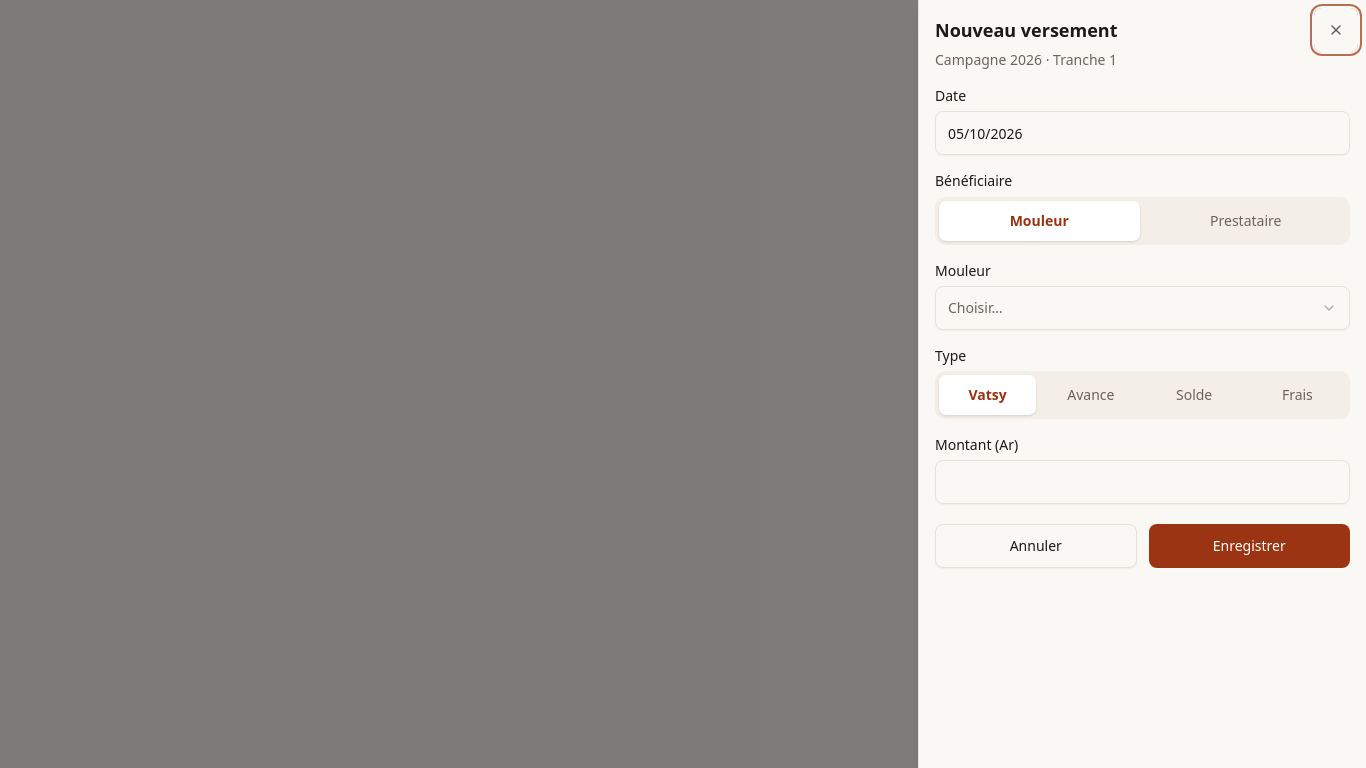
Test: NewPaymentPage › requires the beneficiary the kind names, and a whole positive amount
Type "0" into the field labelled "Montant (Ar)" at [1142, 482], box [935,460,1350,504]
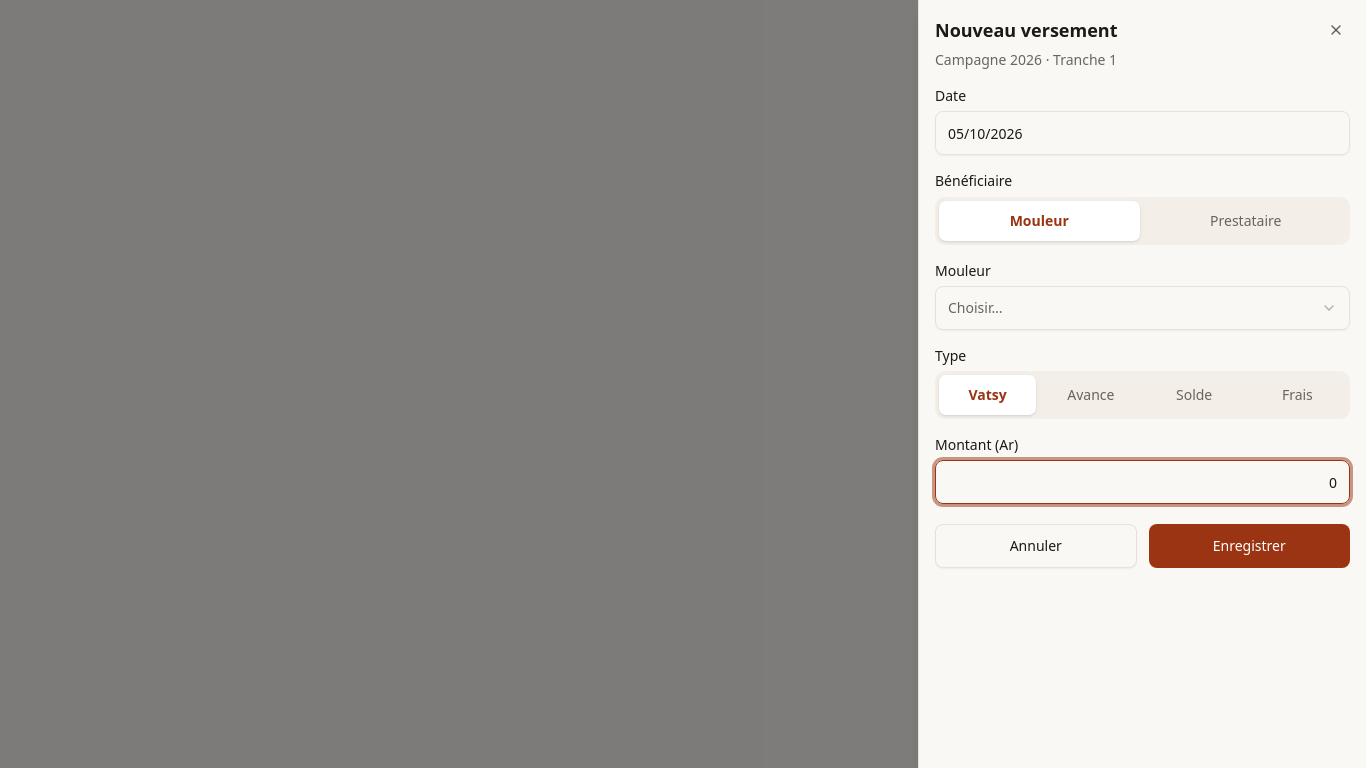
Click the button "Enregistrer" at [1249, 546], box [1148,524,1350,568]
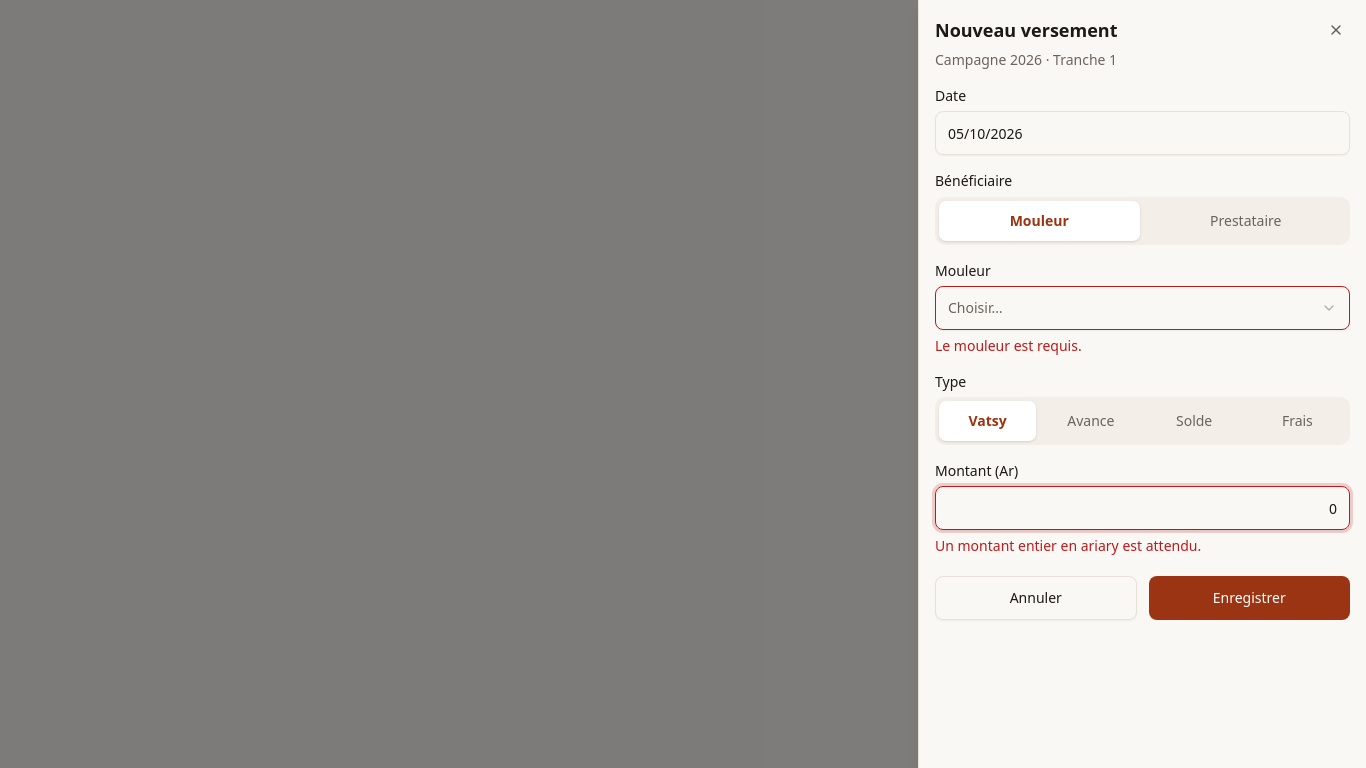
Now the messages read "Le mouleur est requis.", "Un montant entier en ariary est attendu.", in this order, box [935,336,1082,355]; [935,536,1201,555]
Click the radio button labelled "Prestataire" at [1246, 220], box [1146,200,1346,240]
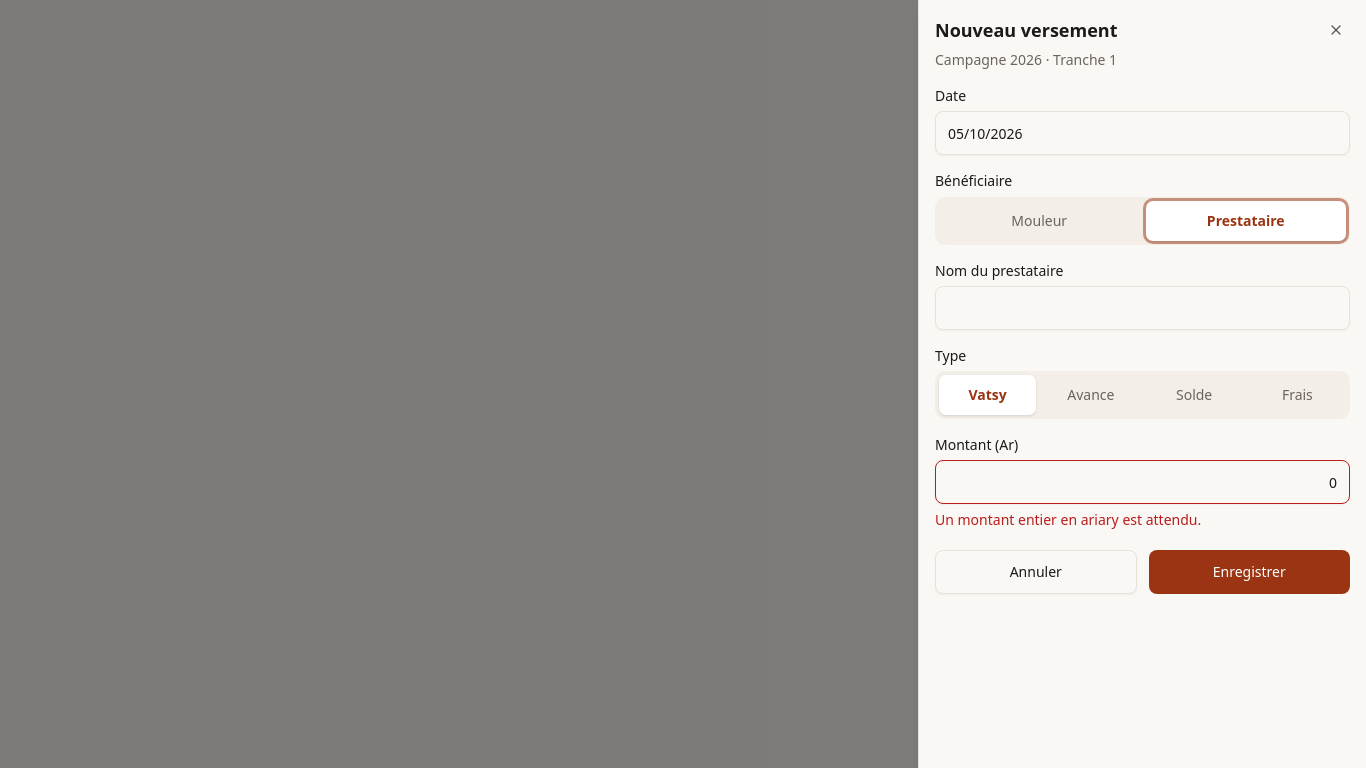
Click the button "Enregistrer" at [1249, 572], box [1148,550,1350,594]
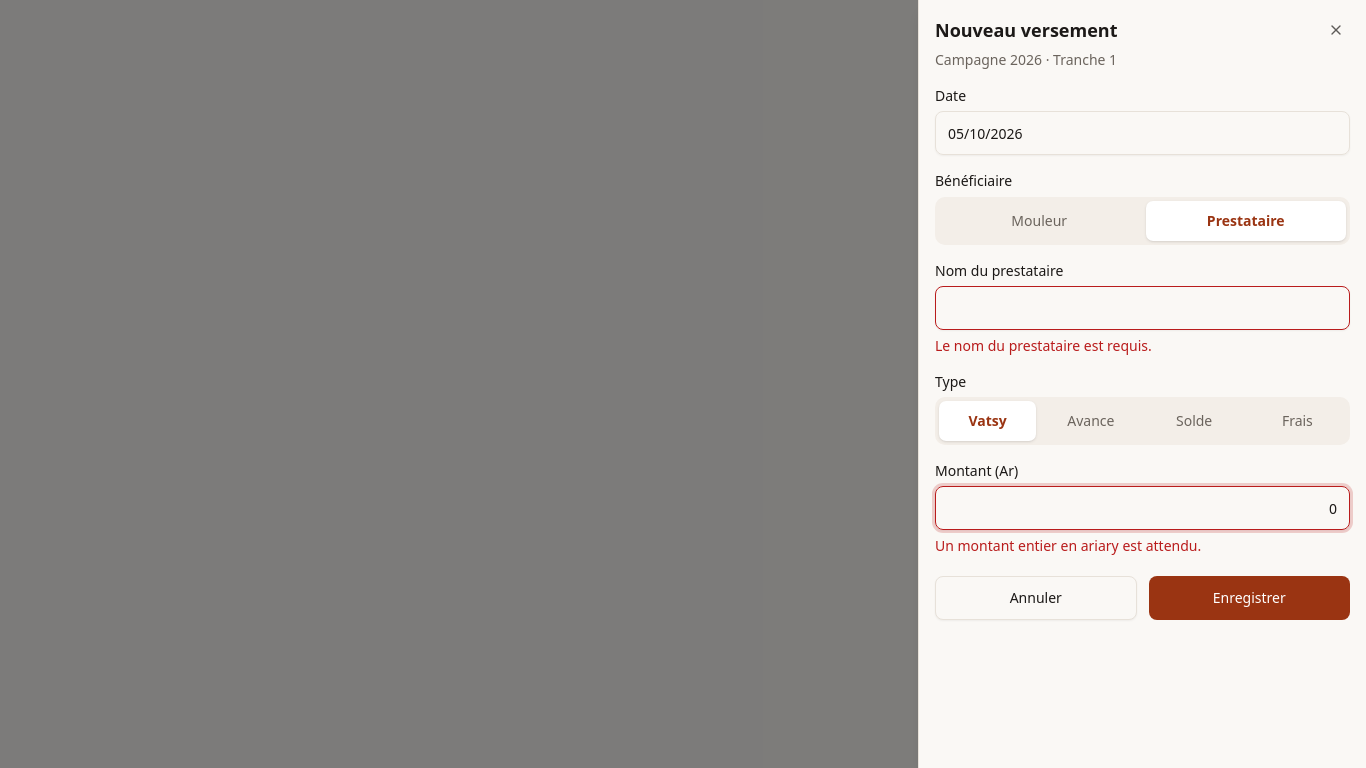
Now the messages read "Le nom du prestataire est requis.", "Un montant entier en ariary est attendu.", in this order, box [935,336,1152,355]; [935,536,1201,555]
